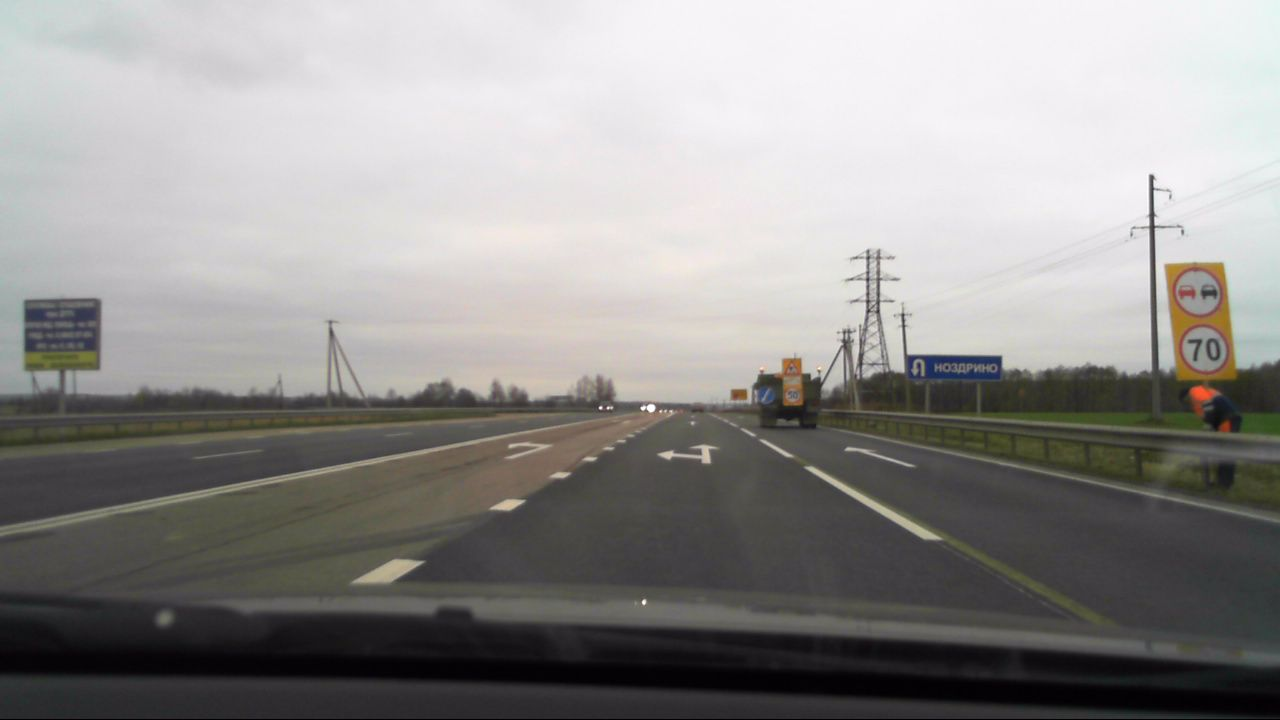U-turn: (908, 356, 930, 379)
